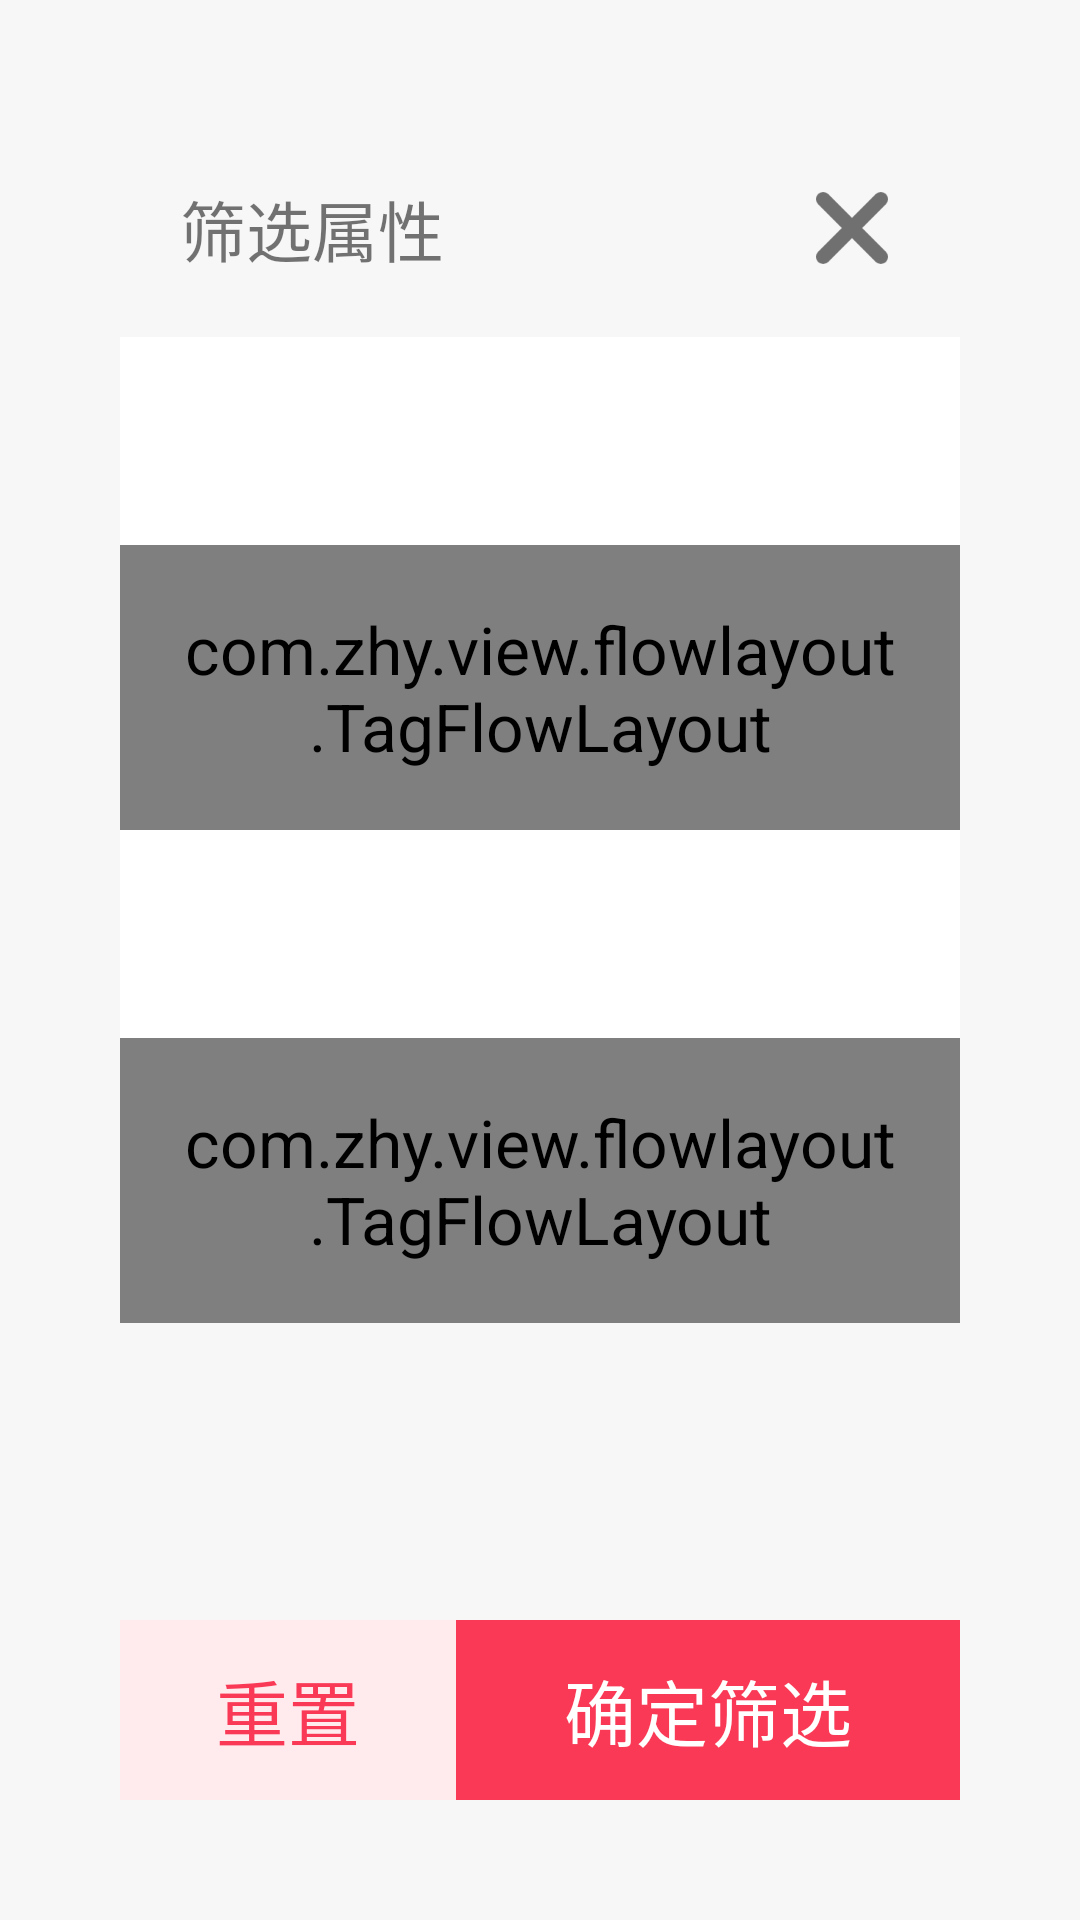

Icons on this 1080 x 1920 Android screen, each with its box as (x1, y1, x2, y2):
close: (816, 192, 888, 264)
